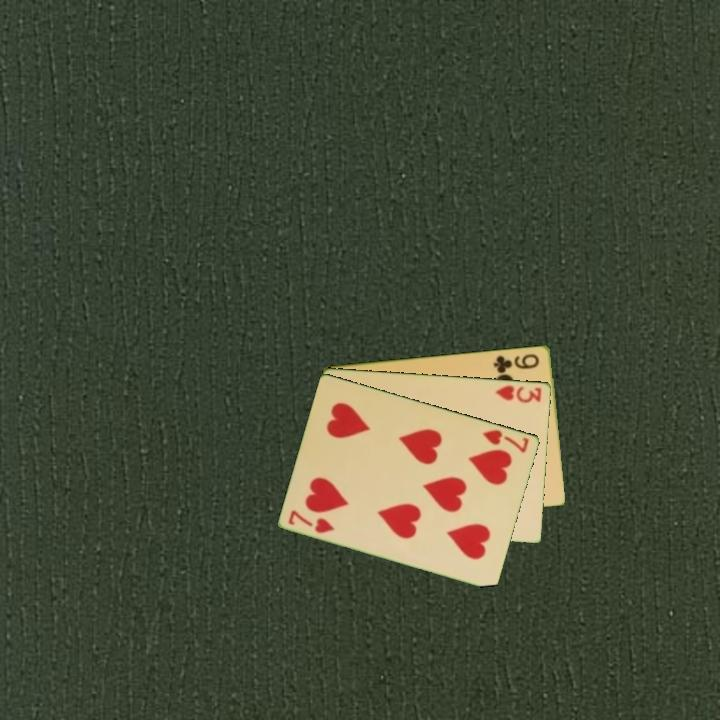3h: (492, 382, 545, 405)
7h: (285, 506, 338, 536), (479, 426, 532, 455)
9c: (490, 350, 542, 375)
